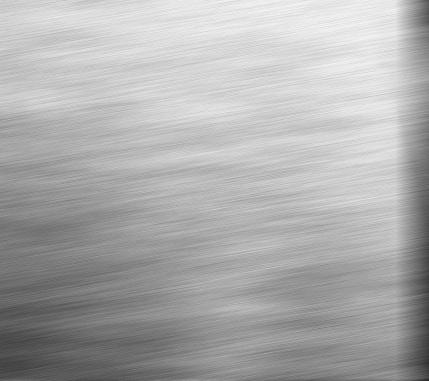Airbag: (0, 0, 428, 381), (415, 1, 429, 381)
